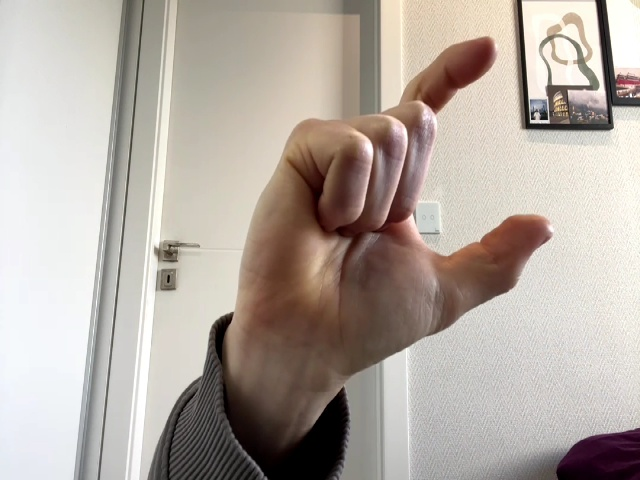C: (236, 37, 554, 378)
